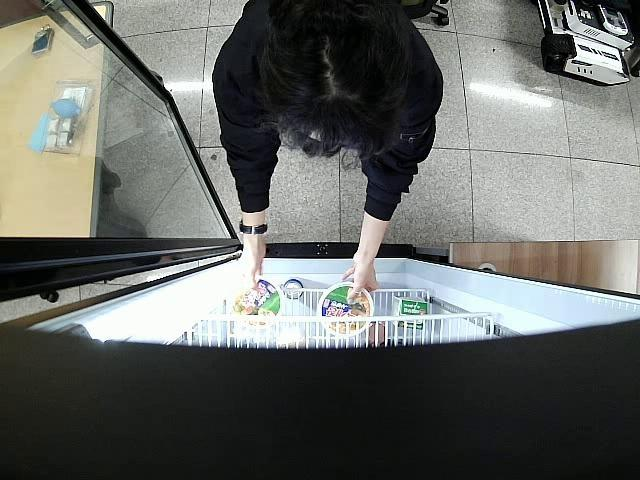09_yukGaeJang: (318, 280, 374, 335), (233, 280, 284, 326)
